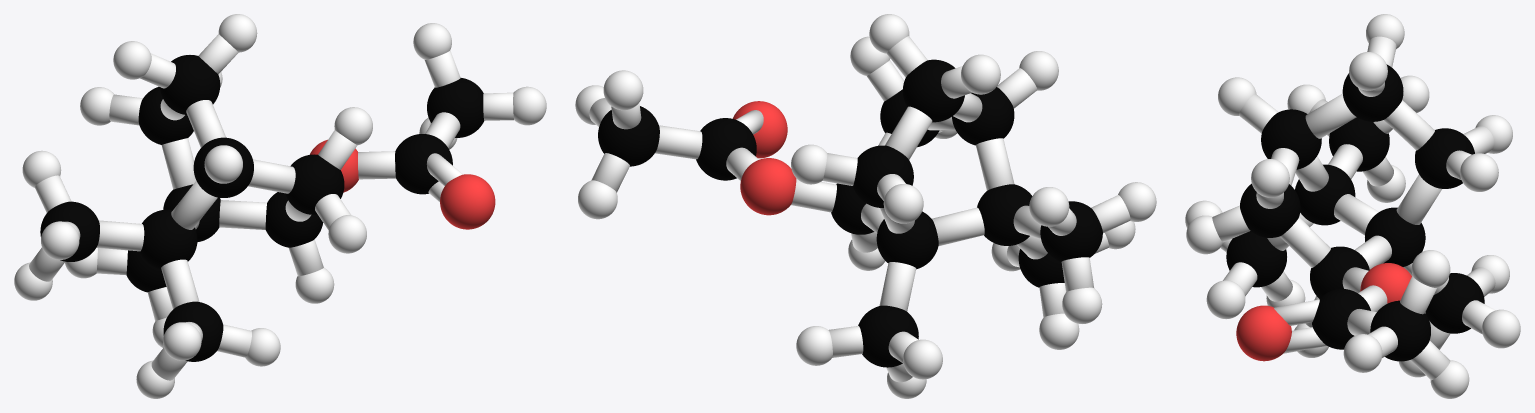
3 views of the same model, side by side, from view 1: azimuth 30°, elevation 25°; view 2: azimuth 150°, elevation 25°; view 3: azimuth 270°, elevation 25° (orthographic). The views are drawn at different scales.
Parts seen in each view (by area): view 1: molecule; view 2: molecule; view 3: molecule.
Part boxes in pixels (bbox=[...]): molecule: bbox=[14, 14, 546, 398]; molecule: bbox=[575, 14, 1156, 398]; molecule: bbox=[1185, 14, 1520, 398].
Bounding box in the file's own units: 9.49 × 5.84 × 5.19.
